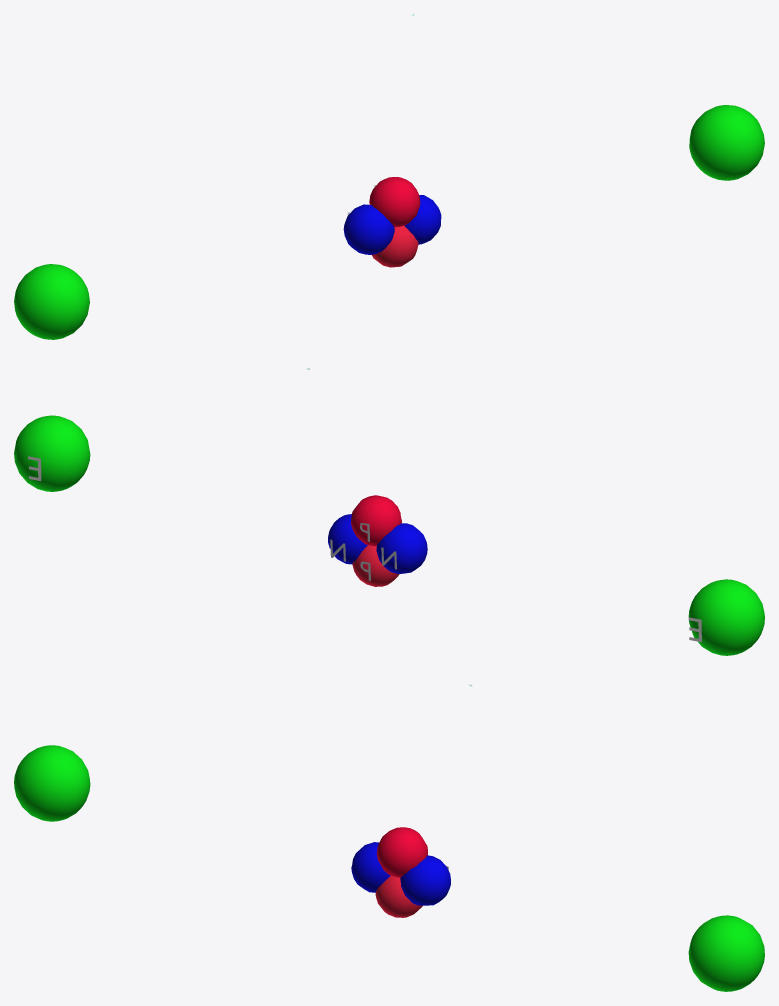
File: labeled_atom(c).glb
The picture shows the model from 3 angles, top to bottom: view 1: azimuth 30°, elevation 25°; view 2: azimuth 150°, elevation 25°; view 3: azimuth 330°, elevation 25°; orthographic projection.
Visible parts, largest first — view 1: Sphere.001; view 2: Sphere.001; view 3: Sphere.001.
Part boxes in pixels (<box>): Sphere.001: <box>14,105,764,339</box>; Sphere.001: <box>14,415,764,655</box>; Sphere.001: <box>14,745,764,991</box>.
Size of the model in its own units: 6.64 by 1.91 by 0.7607.
Materials: 1 (1 with a texture image).
